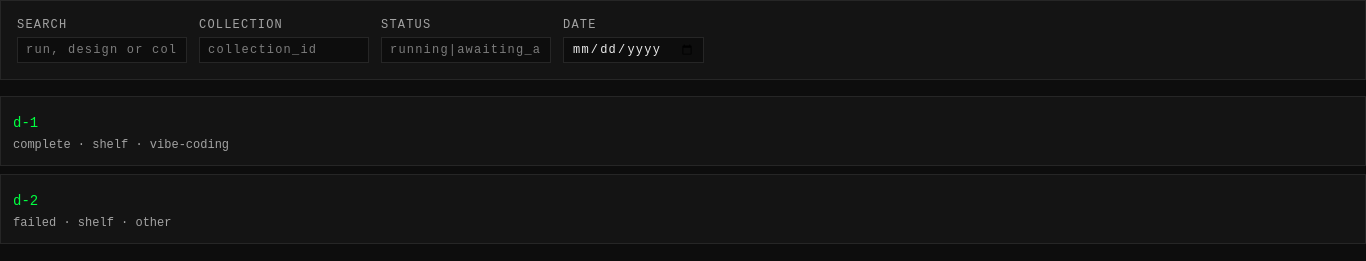
Test: RunsList search and filters › search matches run, design or collection substrings
In the field with placeholder "run, design or collection…": (102, 50) 17,37 -> 187,63, type "vibe"
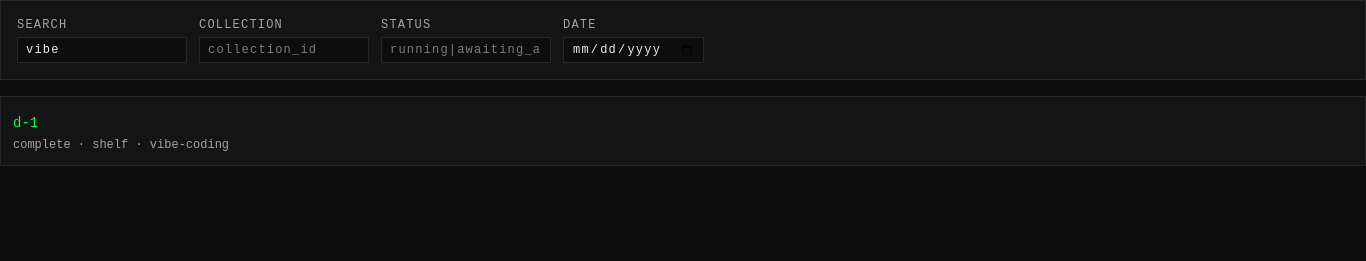
Check: the link "d-1" is shown, box 13,115 -> 38,131
Check: the link "d-2" is gone
